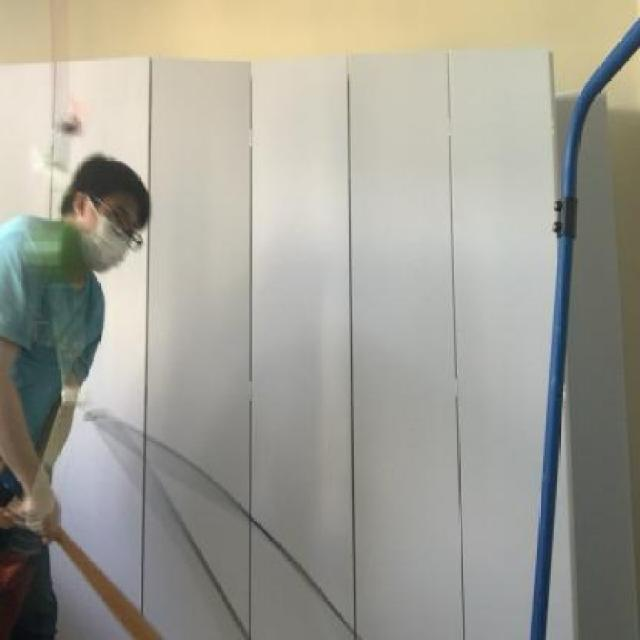baseball: (21, 203, 90, 274)
